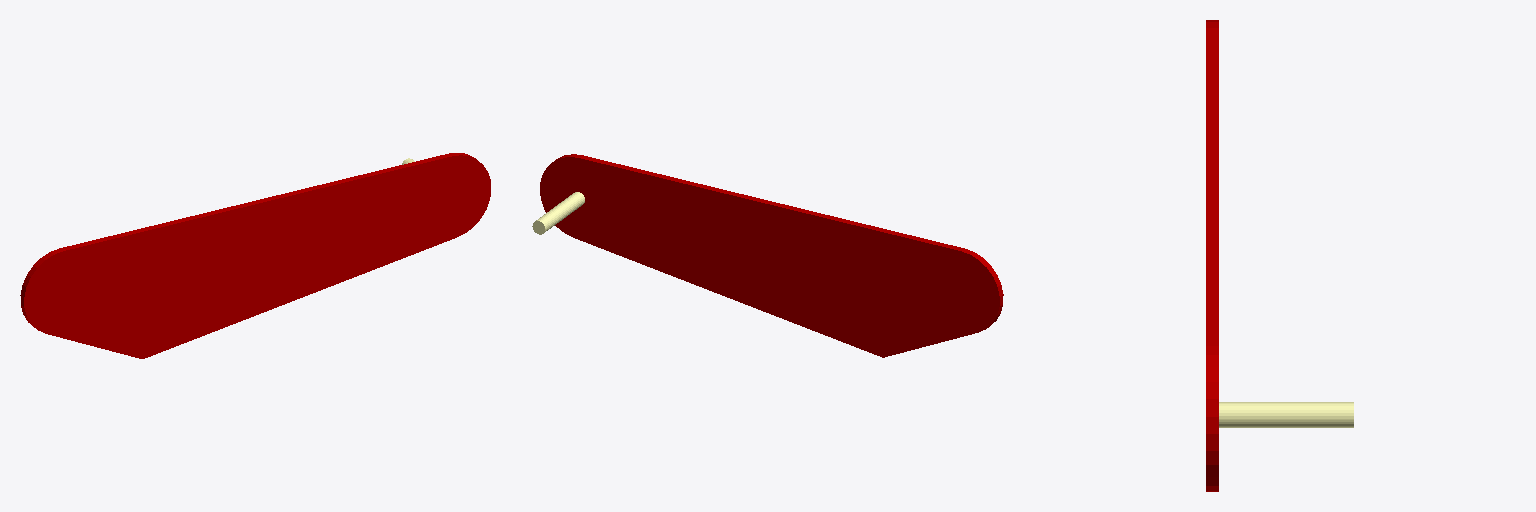
URDF robot description (robot):
<robot name="">
  <link name="root">
    <inertial>
      <mass value="0.0" />
      <origin xyz="0.0 0.0 0.0" rpy="0 -0 0" />
      <inertia ixx="0.0" ixy="0.0" ixz="0.0" iyy="0.0" iyz="0.0" izz="0.0" />
    </inertial>
    <visual>
      <origin xyz="0.0 0.0 0.0" rpy="0.0 -0.0 0.0" />
      <geometry>
        <mesh filename="-root-shape-0.dae" scale="1.0 1.0 1.0" />
      </geometry>
    </visual>
    <visual>
      <origin xyz="0.0 0.0 0.0" rpy="0.0 -0.0 0.0" />
      <geometry>
        <mesh filename="-root-shape-1.dae" scale="1.0 1.0 1.0" />
      </geometry>
    </visual>
    <visual>
      <origin xyz="0.0 0.0 0.0" rpy="0.0 -0.0 0.0" />
      <geometry>
        <mesh filename="-root-shape-2.dae" scale="1.0 1.0 1.0" />
      </geometry>
    </visual>
    <collision>
      <origin xyz="0.0 0.0 0.0" rpy="0.0 -0.0 0.0" />
      <geometry>
        <mesh filename="-root-shape-0.dae" scale="1.0 1.0 1.0" />
      </geometry>
    </collision>
    <collision>
      <origin xyz="0.0 0.0 0.0" rpy="0.0 -0.0 0.0" />
      <geometry>
        <mesh filename="-root-shape-1.dae" scale="1.0 1.0 1.0" />
      </geometry>
    </collision>
    <collision>
      <origin xyz="0.0 0.0 0.0" rpy="0.0 -0.0 0.0" />
      <geometry>
        <mesh filename="-root-shape-2.dae" scale="1.0 1.0 1.0" />
      </geometry>
    </collision>
  </link>
</robot>

--- What the picture shows (computed from the rendered views, not written in the file) ---
3 views of the same robot in one strip: view 1: azimuth 30°, elevation 25°; view 2: azimuth 150°, elevation 25°; view 3: azimuth 270°, elevation 25° (orthographic).
Model robot with 1 links and 0 joints (none), rooted at root, posed every joint at zero.
Visible links, largest first — view 1: root; view 2: root; view 3: root.
Link boxes in pixels (x1,y1,x2,y2): root: [20, 153, 490, 358]; root: [532, 154, 1003, 357]; root: [1206, 20, 1353, 491].
Bounding box of the posed robot: 0.3543 × 0.058 × 0.0925 m (x, y, z).
Meshes: 3 distinct files referenced, 2 mesh visuals loaded (2 Collada DAE); not drawn: 1 (reference not matched to a file when rendering).